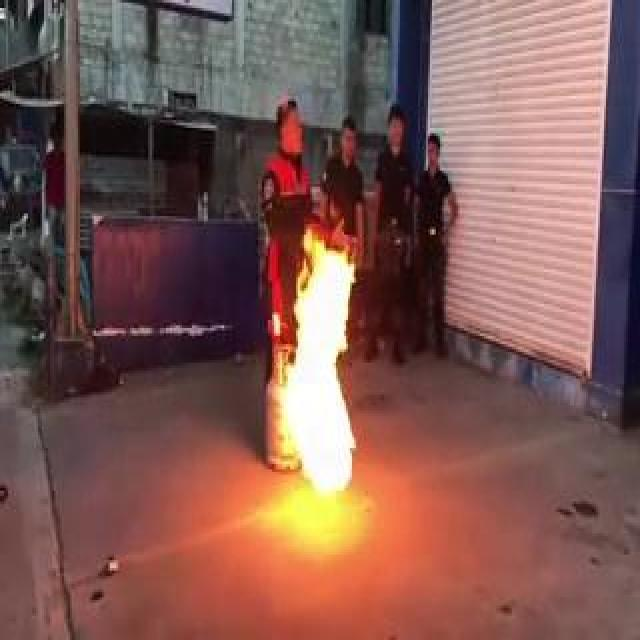Fire: (258, 215, 358, 497)
